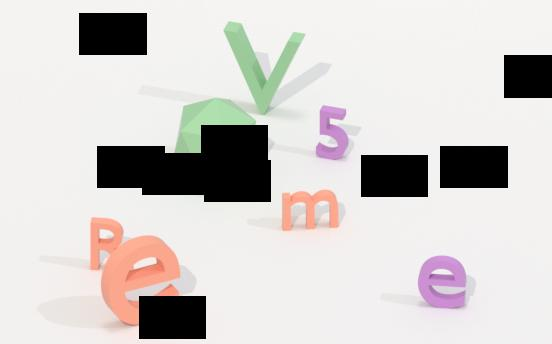5: (314, 100, 352, 163)
R-hoa: (88, 214, 128, 275)
dagiac: (168, 98, 257, 179)
e: (99, 232, 184, 329), (415, 250, 469, 310)
m: (277, 189, 341, 231)
v: (220, 13, 308, 119)
